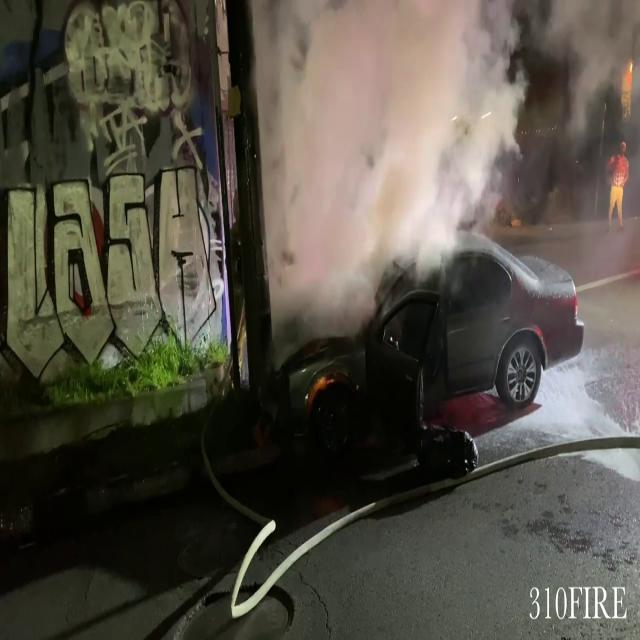Smoke: (255, 1, 640, 280)
